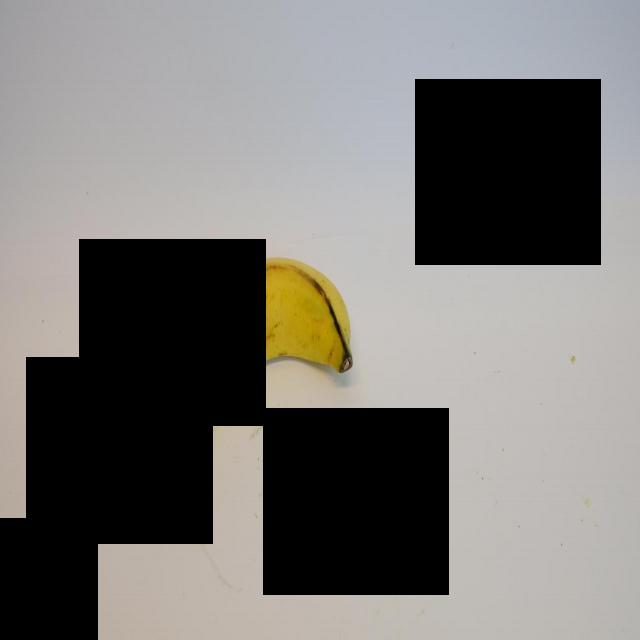banana: (130, 248, 358, 488)
